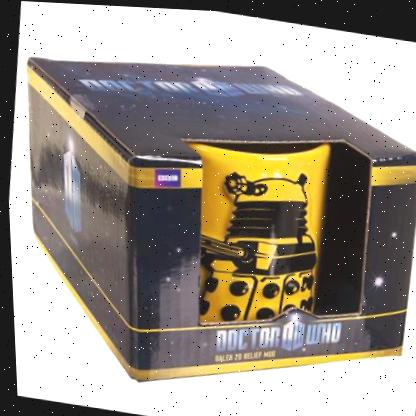dalek: (176, 156, 343, 345)
